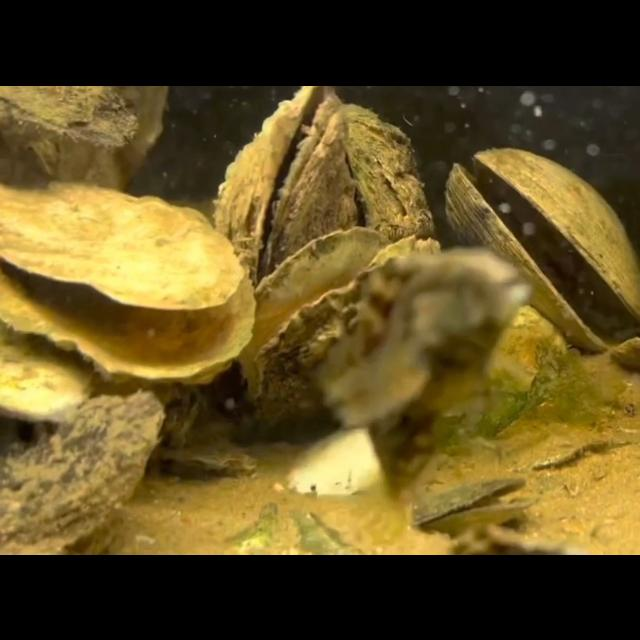Oyster-Closed: (0, 389, 166, 555), (412, 298, 570, 449), (342, 100, 436, 242), (0, 317, 94, 423), (0, 85, 140, 149), (284, 423, 386, 497)
Oyster-Open: (0, 178, 260, 381), (446, 144, 638, 352), (238, 224, 450, 403), (213, 85, 351, 283), (412, 472, 544, 540), (147, 420, 261, 480)
